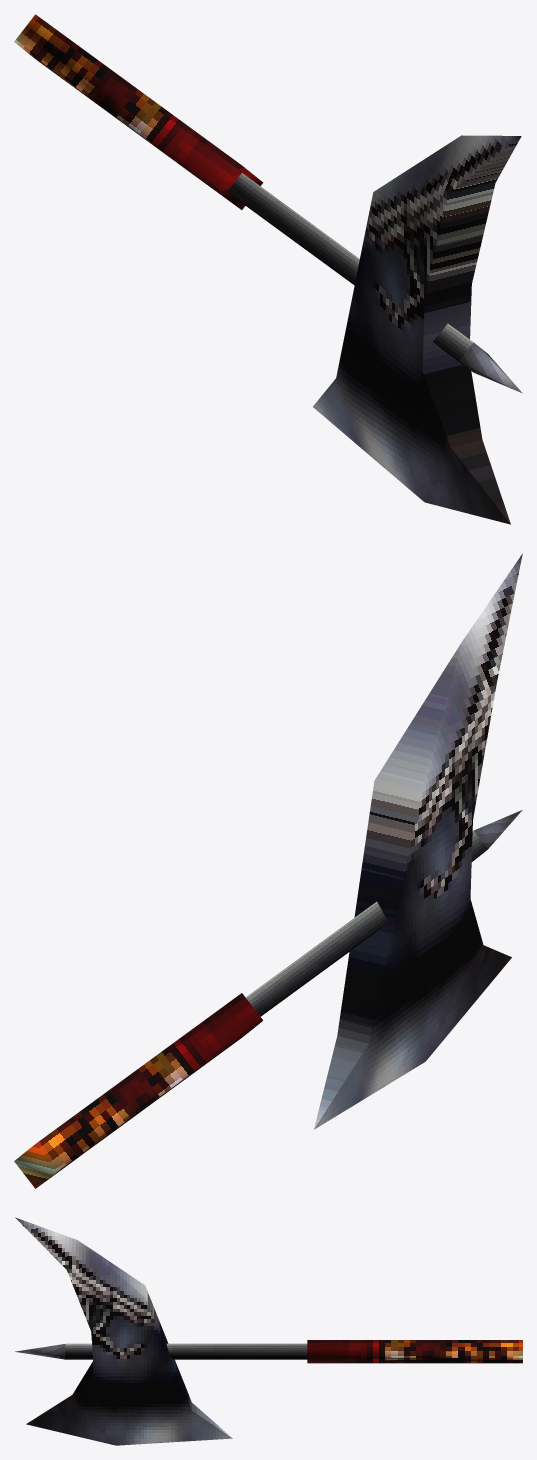
Rendered from zhanshizhifu.FBX.
3 views of the same model, one above another, from view 1: azimuth 30°, elevation 25°; view 2: azimuth 150°, elevation 25°; view 3: azimuth 270°, elevation 25° (orthographic). The views are drawn at different scales.
Visible parts, largest first — view 1: zhanshizhifu; view 2: zhanshizhifu; view 3: zhanshizhifu.
Part boxes in pixels (x1,y1,x2,y2): zhanshizhifu: (14, 14, 522, 524); zhanshizhifu: (14, 553, 522, 1188); zhanshizhifu: (15, 1217, 522, 1445).
Bounding box in the file's own units: 16.55 × 147 × 298.
1 material, 1 textured.
